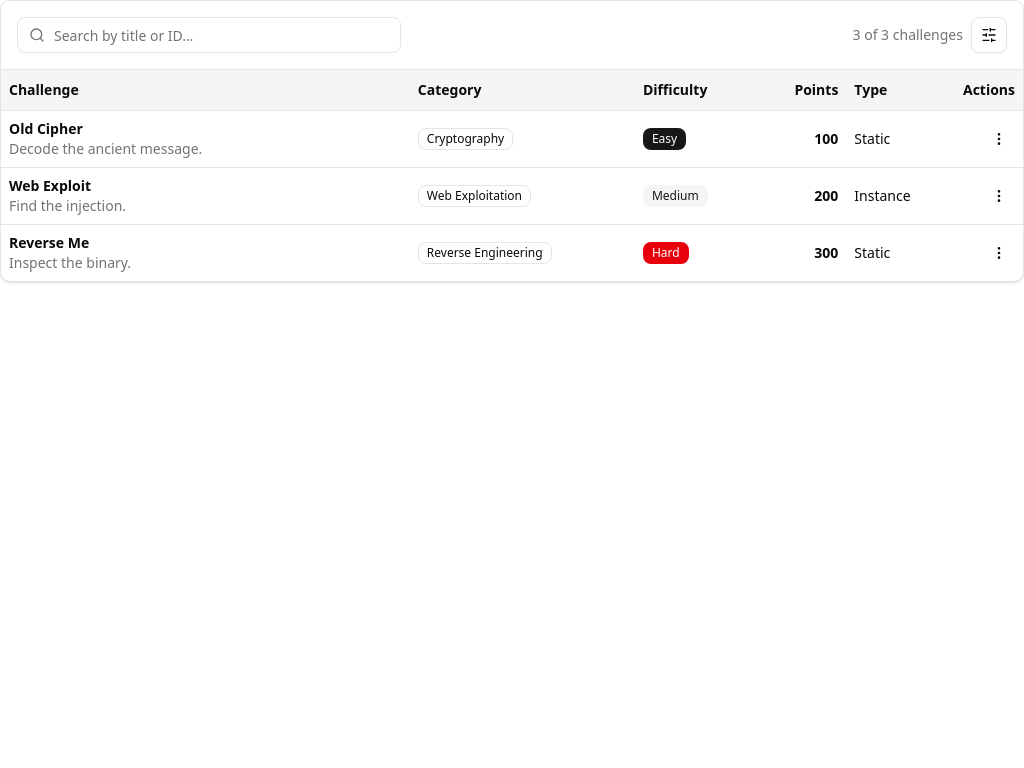
Test case: admin challenge filters › filters by multiple difficulties
What coordinates should you click on to do the following:
click the button named "Filters"
I would click on:
 (989, 35)
Its box is x1=971 y1=17 x2=1007 y2=53.
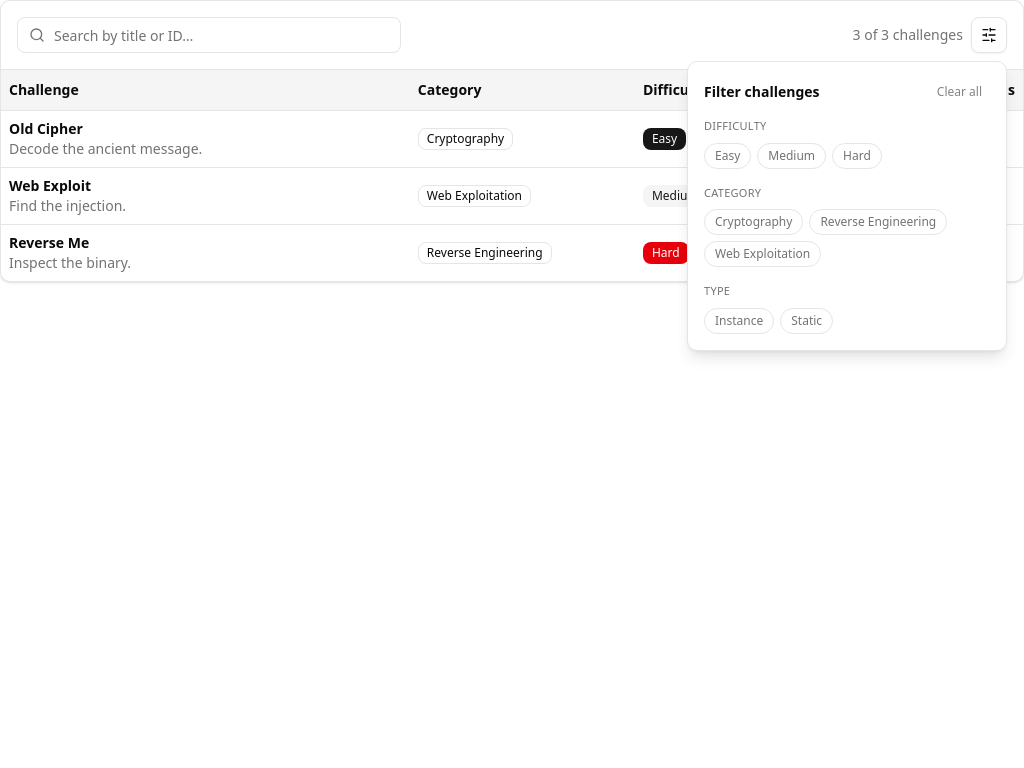
What coordinates should you click on to do the following:
click the button "easy"
I would click on:
 (728, 156)
Its box is x1=704 y1=142 x2=751 y2=168.
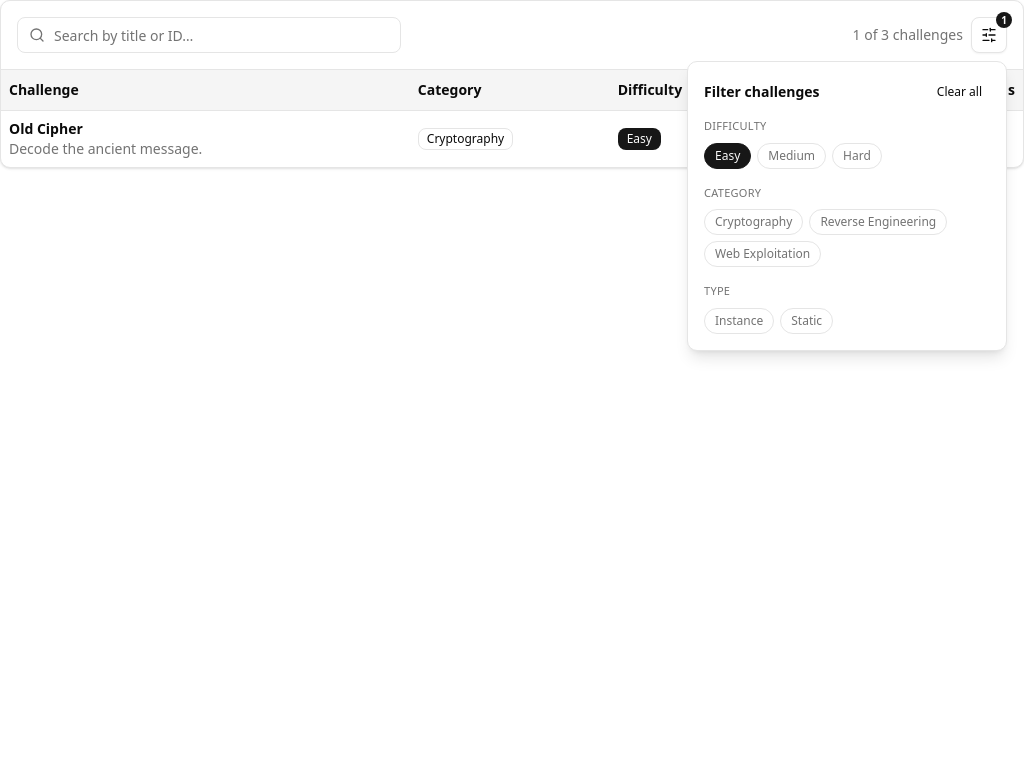
What coordinates should you click on to do the following:
click the button "hard"
I would click on:
 (857, 156)
Its box is x1=832 y1=142 x2=882 y2=168.
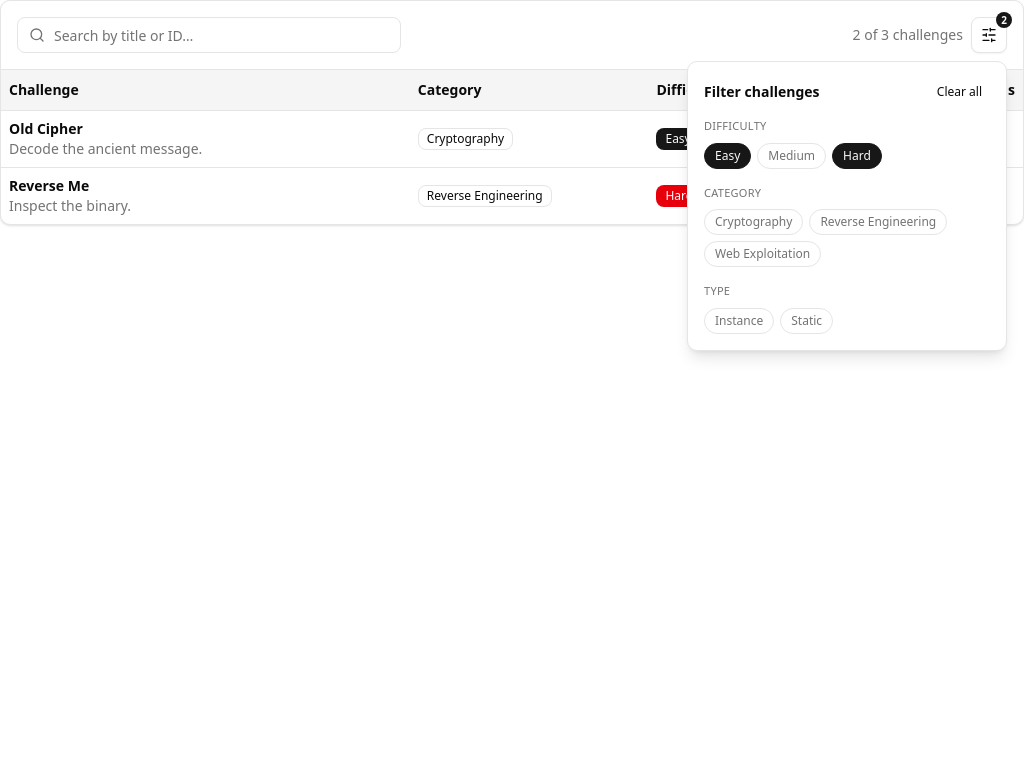
Expected: the text "Old Cipher" is shown, x1=9 y1=118 x2=83 y2=138
Now the text "Reverse Me" is shown, box x1=9 y1=176 x2=89 y2=194
Now the text "2 of 3 challenges" is shown, box x1=852 y1=25 x2=963 y2=45
